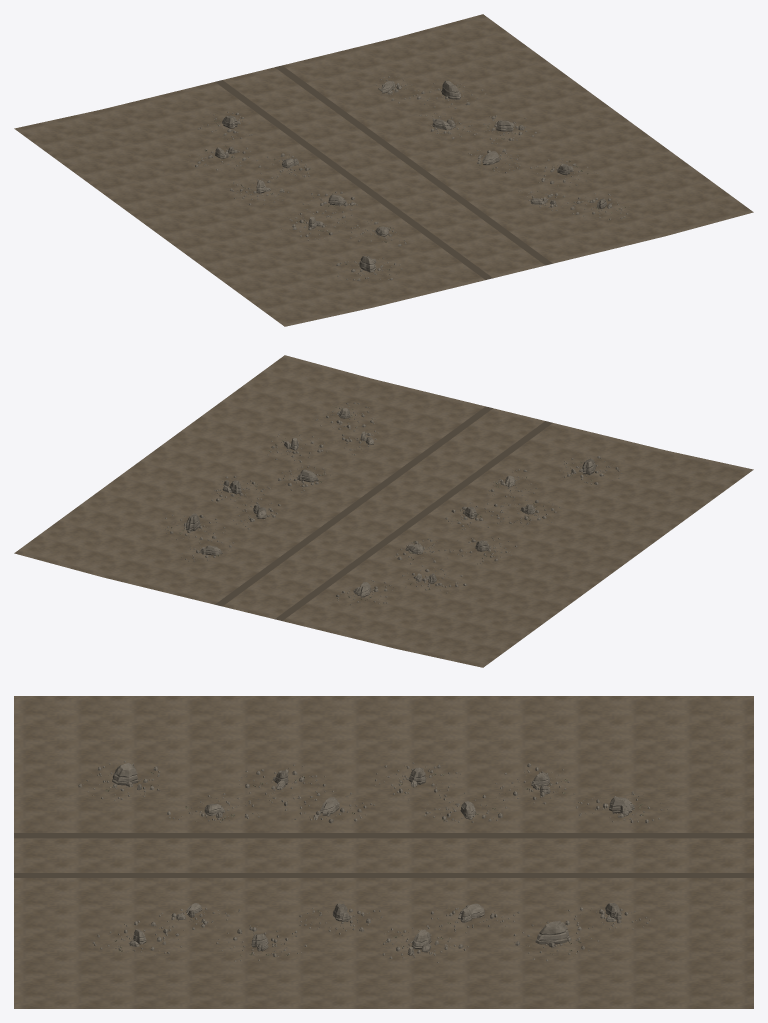
Rendered from NW6_Desert.fbx.
The picture shows the model from 3 angles, top to bottom: view 1: azimuth 30°, elevation 25°; view 2: azimuth 150°, elevation 25°; view 3: azimuth 270°, elevation 25°; orthographic projection. The views are drawn at different scales.
Parts seen in each view (by area): view 1: NW6_GroundSurface, NW6_TrackLeft, NW6_TrackRight; view 2: NW6_GroundSurface, NW6_TrackLeft, NW6_TrackRight; view 3: NW6_GroundSurface, NW6_TrackLeft, NW6_TrackRight, NW6_StoneField_14, NW6_StoneField_00, NW6_StoneField_12, NW6_StoneField_07, NW6_StoneField_03, NW6_StoneField_13, NW6_StoneField_06, NW6_StoneField_04, NW6_StoneField_10 (+3 smaller).
Boxes of the visible parts, x1=… form: NW6_GroundSurface: x1=14, y1=14, x2=753, y2=326; NW6_TrackLeft: x1=215, y1=80, x2=492, y2=279; NW6_TrackRight: x1=275, y1=65, x2=552, y2=265; NW6_GroundSurface: x1=14, y1=355, x2=753, y2=667; NW6_TrackLeft: x1=275, y1=421, x2=552, y2=620; NW6_TrackRight: x1=215, y1=406, x2=492, y2=606; NW6_GroundSurface: x1=14, y1=696, x2=753, y2=1008; NW6_TrackLeft: x1=14, y1=833, x2=753, y2=838; NW6_TrackRight: x1=14, y1=873, x2=753, y2=877; NW6_StoneField_14: x1=513, y1=920, x2=599, y2=961; NW6_StoneField_00: x1=78, y1=760, x2=160, y2=800; NW6_StoneField_12: x1=382, y1=925, x2=468, y2=963; NW6_StoneField_07: x1=576, y1=790, x2=668, y2=823; NW6_StoneField_03: x1=284, y1=790, x2=375, y2=823; NW6_StoneField_13: x1=431, y1=903, x2=519, y2=933; NW6_StoneField_06: x1=495, y1=763, x2=574, y2=804; NW6_StoneField_04: x1=372, y1=762, x2=460, y2=800; NW6_StoneField_10: x1=216, y1=925, x2=306, y2=961.
Size of the model in its own units: 80 by 2.3 by 80.
